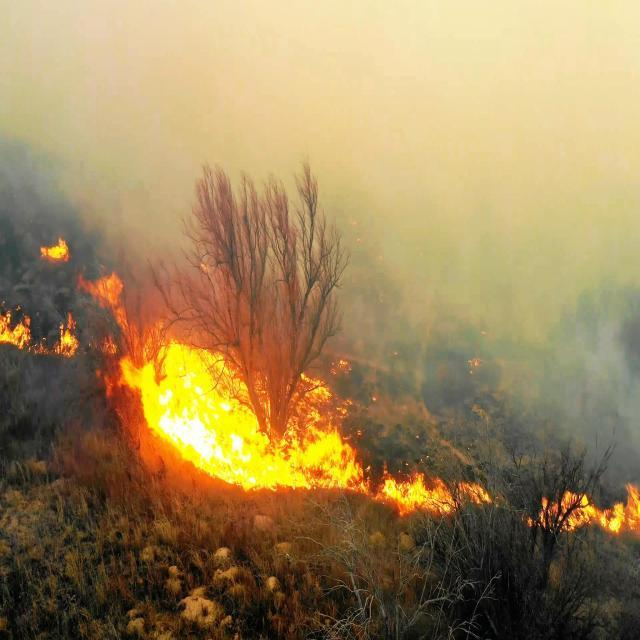Fire: (125, 342, 374, 496), (524, 471, 640, 538), (377, 471, 497, 522), (0, 301, 81, 358), (38, 232, 73, 264)
Smoke: (9, 0, 640, 164), (344, 173, 640, 344), (375, 348, 640, 470), (0, 166, 192, 232)
